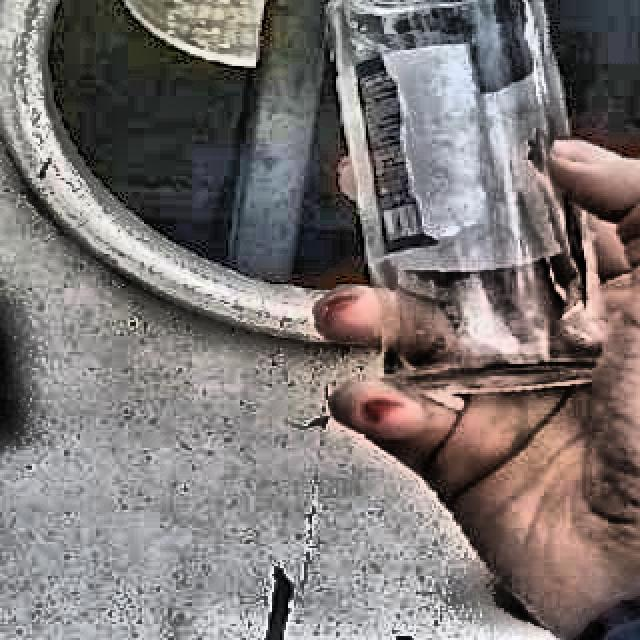glass: (328, 0, 600, 392)
